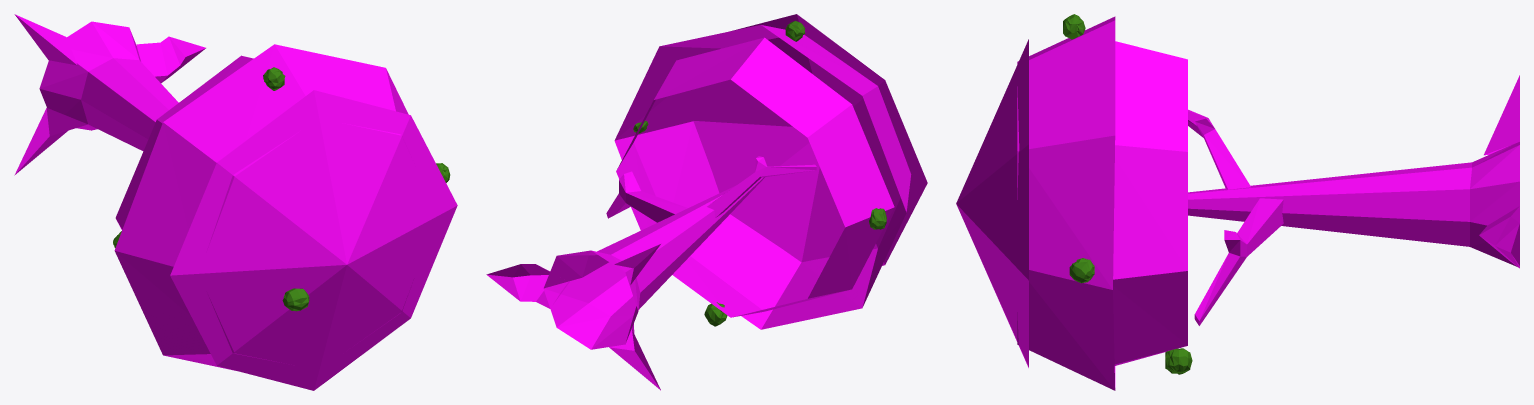
File: 5_mature_full.obj
3 renders of one model, left to right at view 1: azimuth 30°, elevation 25°; view 2: azimuth 150°, elevation 25°; view 3: azimuth 270°, elevation 25°, orthographic. The views are drawn at different scales.
Visible parts, largest first — view 1: limetree; view 2: limetree; view 3: limetree.
Part boxes in pixels (<box>): limetree: <box>14,14,457,390</box>; limetree: <box>486,14,927,390</box>; limetree: <box>956,14,1519,390</box>.
Bounding box in the file's own units: 1.79 × 1.78 × 2.48.
